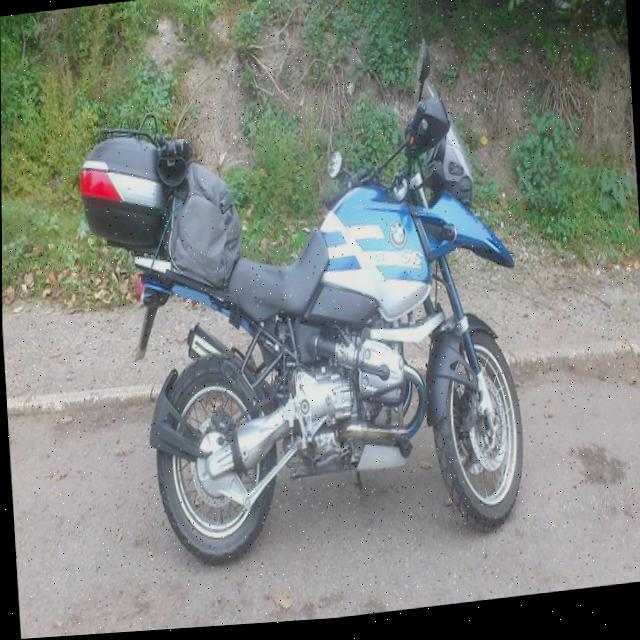motorcycle: (57, 73, 528, 589)
